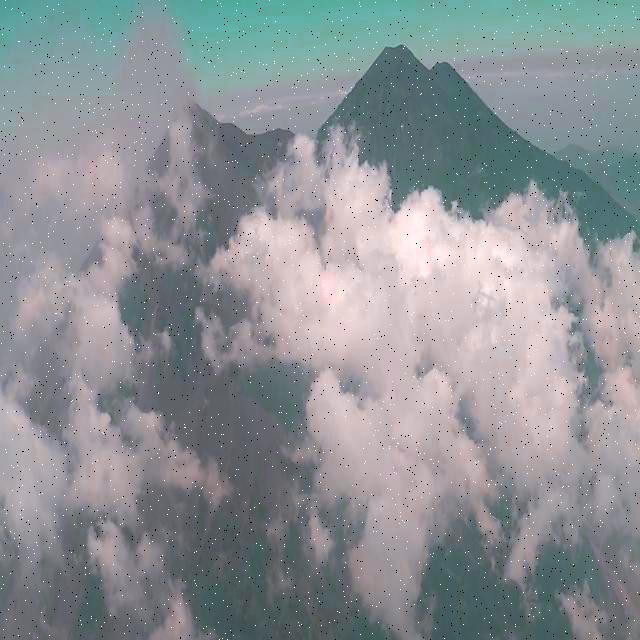Summit: (140, 92, 248, 180)
